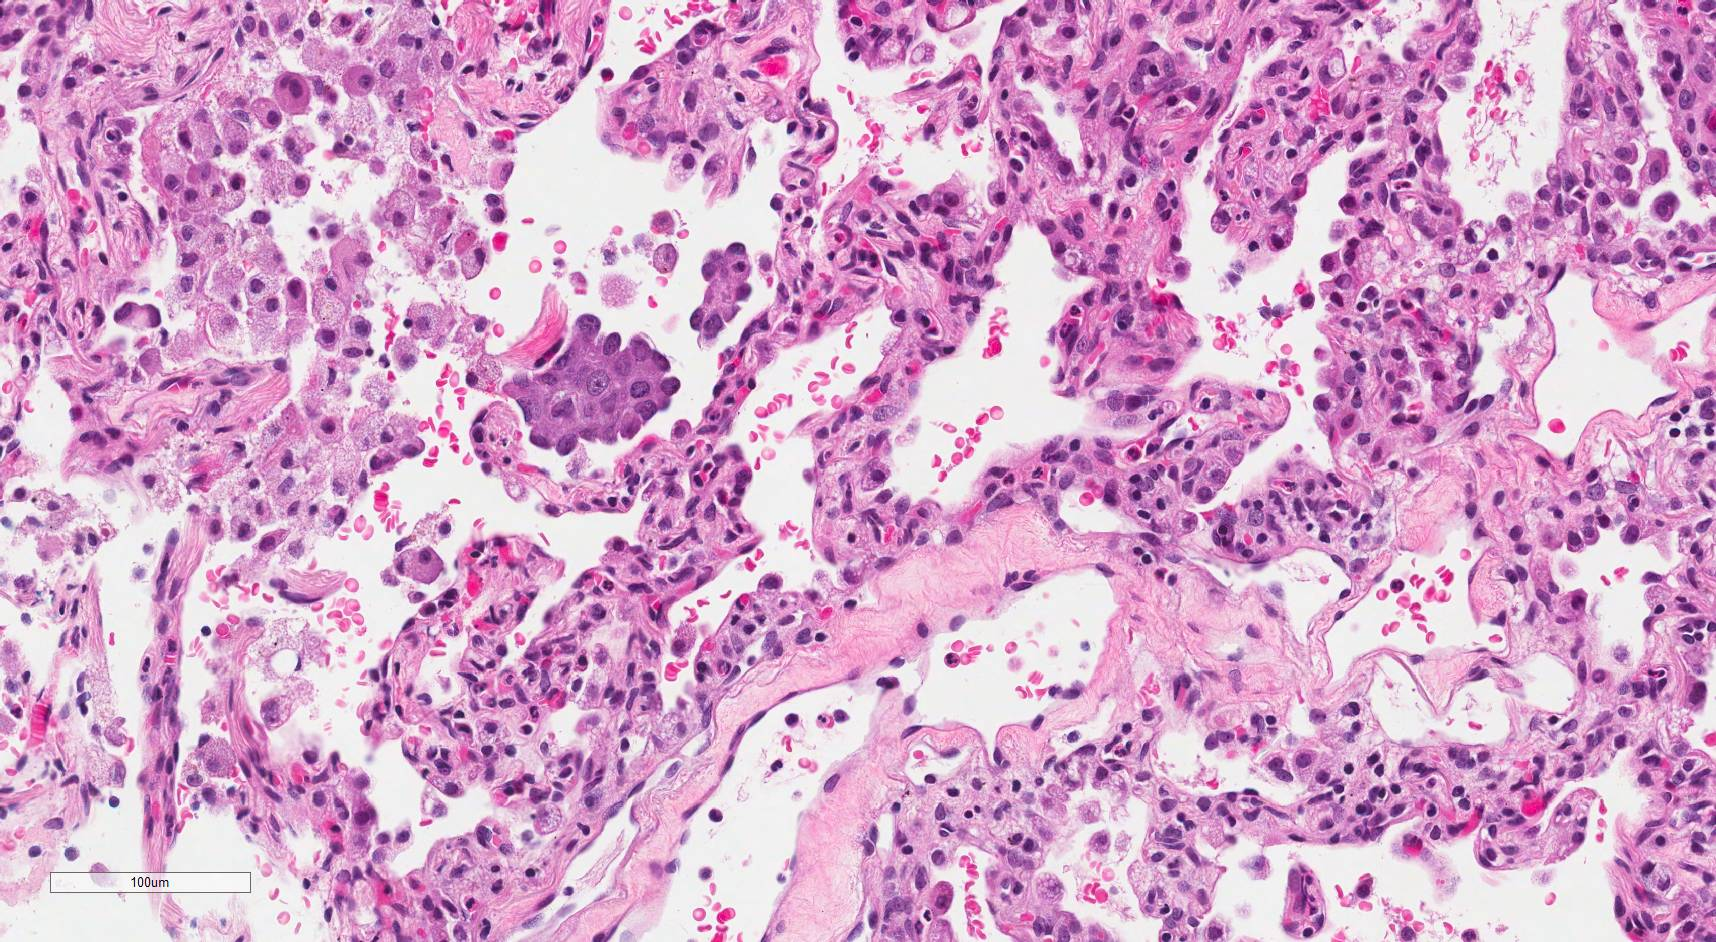stas: (498, 315, 680, 455), (687, 241, 755, 350)
